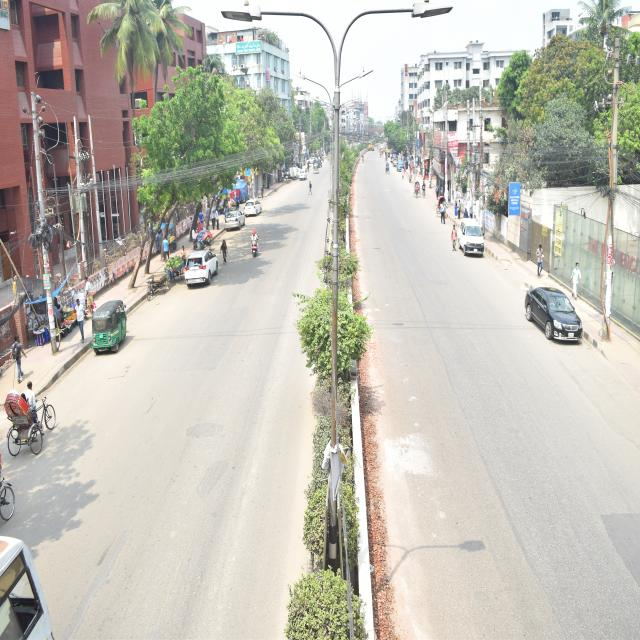car: (523, 280, 585, 348), (182, 246, 220, 289), (223, 206, 247, 232), (241, 199, 265, 221)
microbus: (456, 213, 487, 260)
motorbike: (246, 230, 261, 262)
